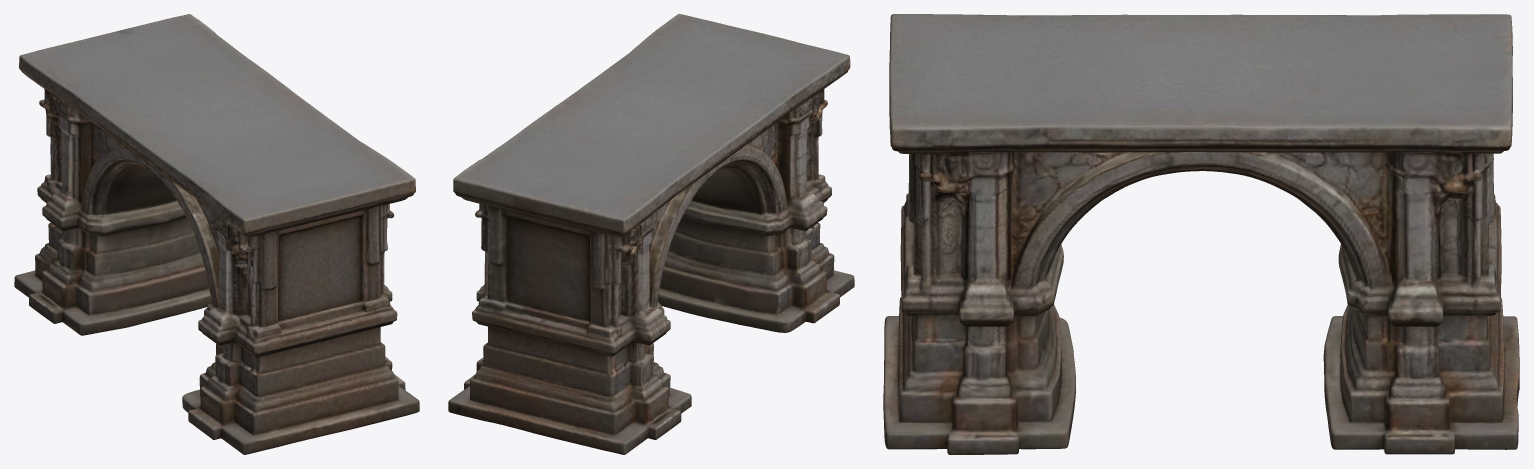
File: import-1780595038090-archway.web.webp.glb
The picture shows the model from 3 angles, left to right: view 1: azimuth 30°, elevation 25°; view 2: azimuth 150°, elevation 25°; view 3: azimuth 270°, elevation 25°; orthographic projection. The views are drawn at different scales.
Bounding box in the file's own units: 0.1946 × 0.2244 × 0.4036.
1 material, 1 textured.
